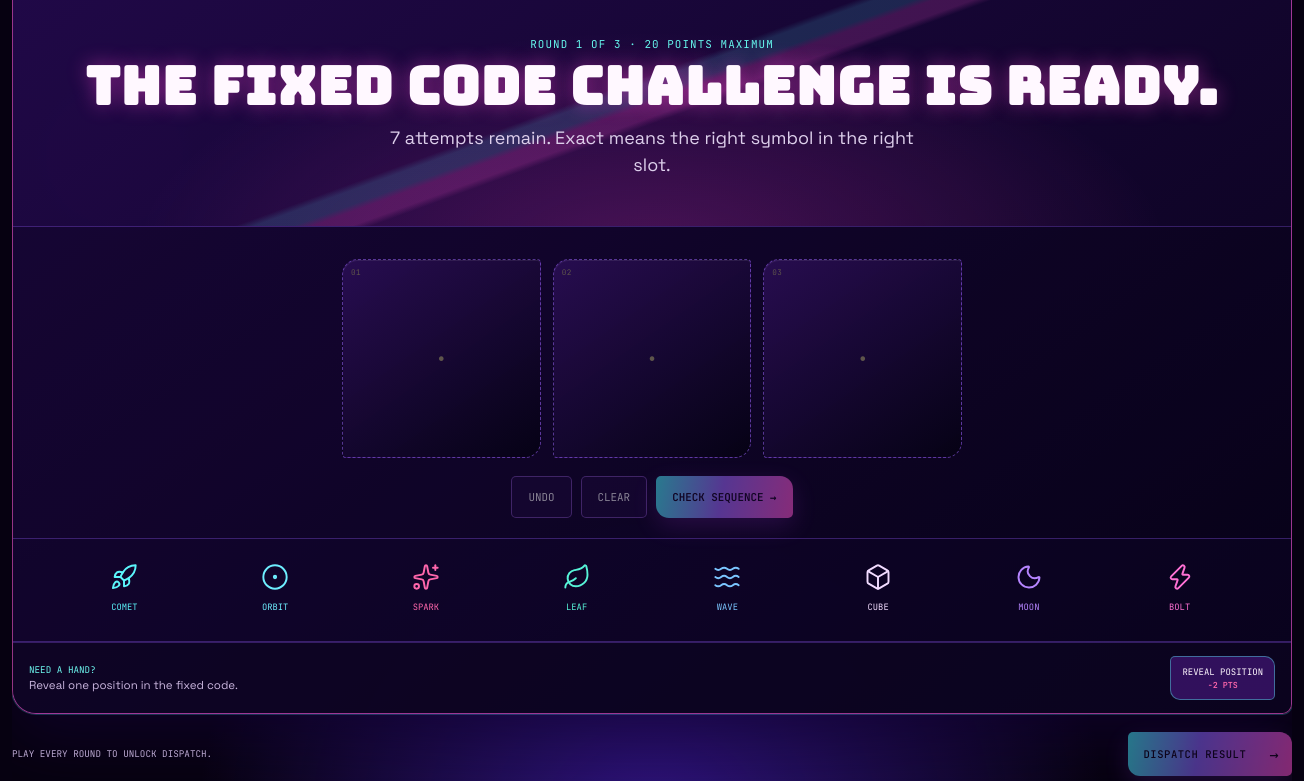
Scenario: code-breaker game › shows exact, shifted, and absent feedback from the team puzzle endpoint
(page scrolled)
Click the button with aria-label "Add Comet" at (124,590), box [49,554,200,626]
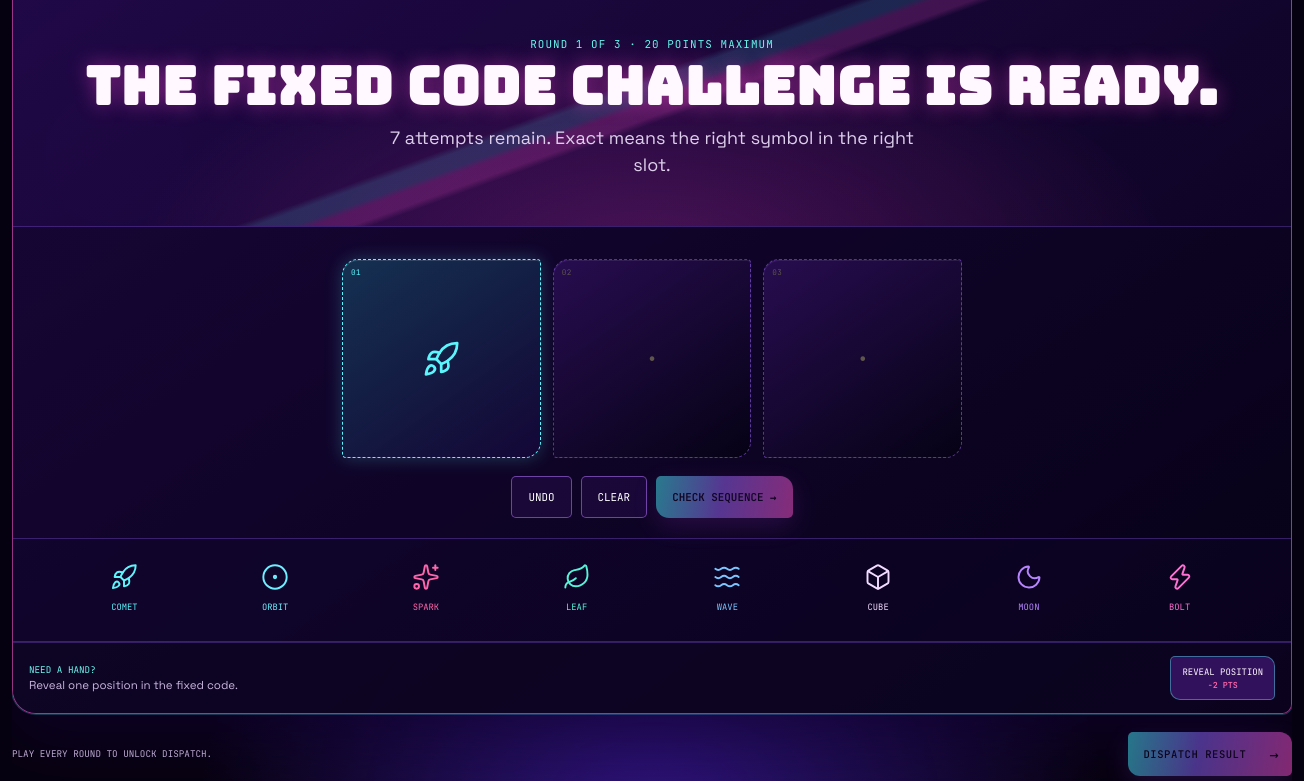
Click the button "Spark" at (426,590), box [350,554,501,626]
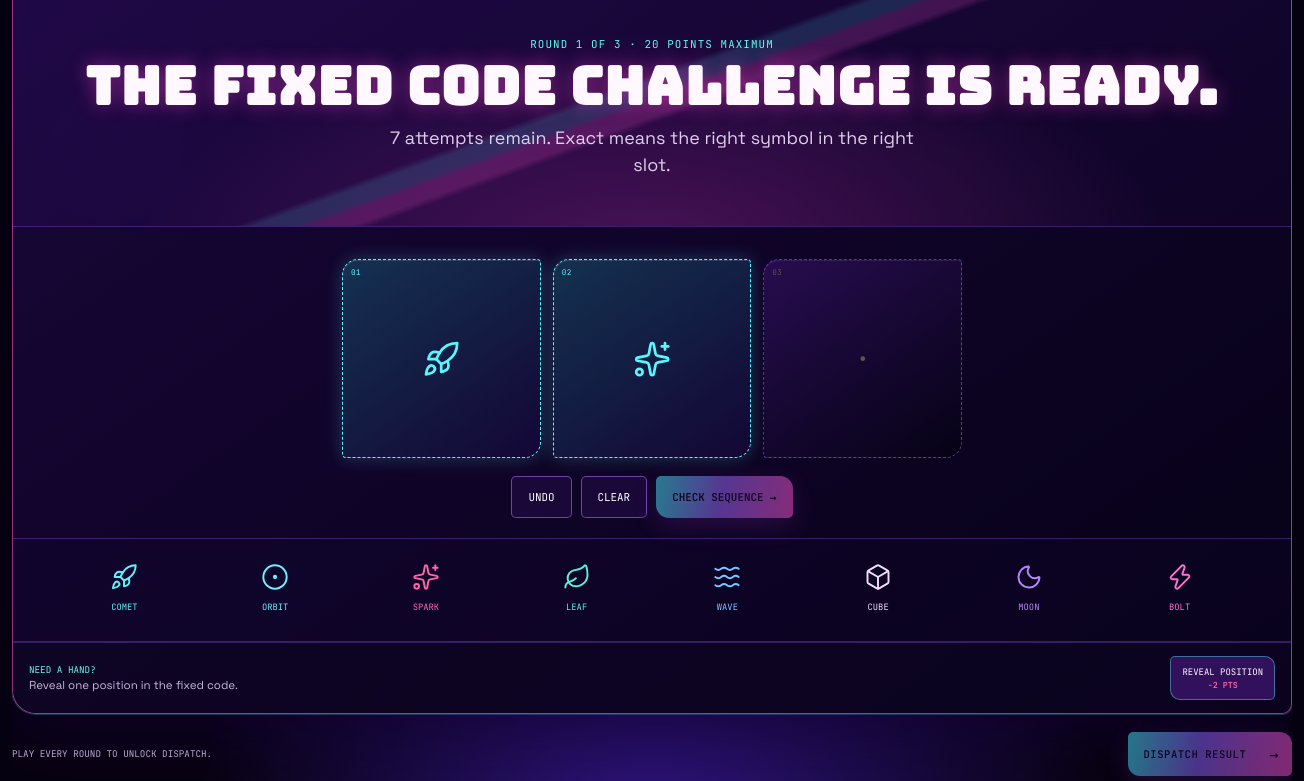
Click the button "Leaf" at (577,590), box [501,554,652,626]
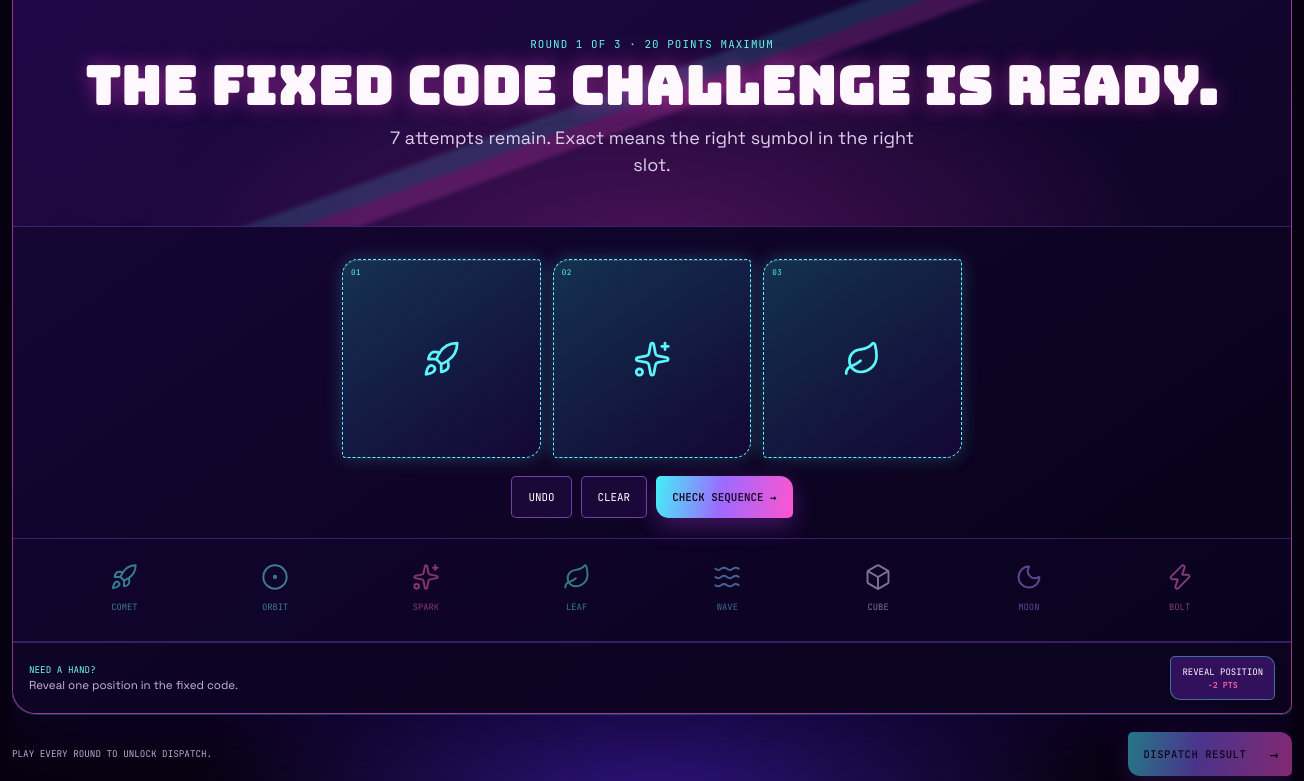
Click the button "Check sequence →" at (724,497), box [656,476,793,518]
(page scrolled)
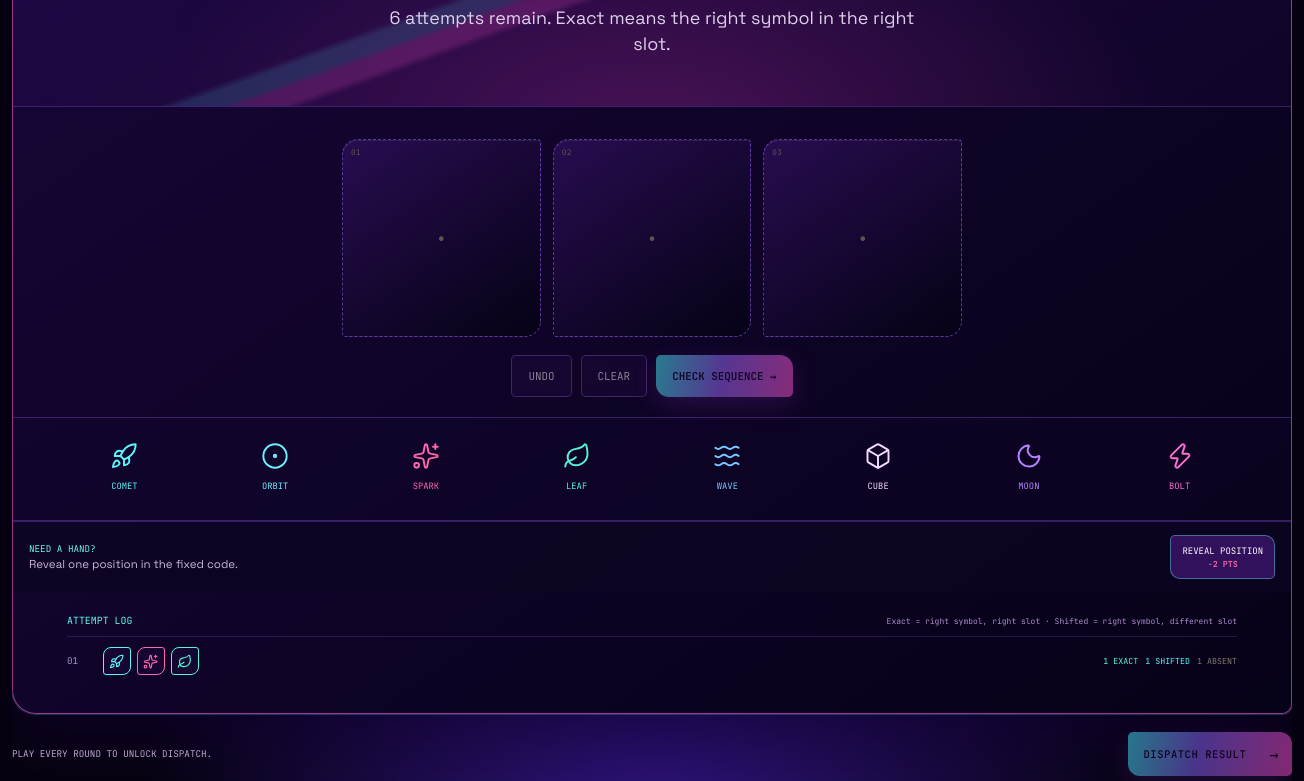
Now the text "1 exact" is shown, box [1103,656,1138,666]
Now the text "1 shifted" is shown, box [1145,656,1190,666]
Now the text "1 absent" is shown, box [1197,656,1237,666]
